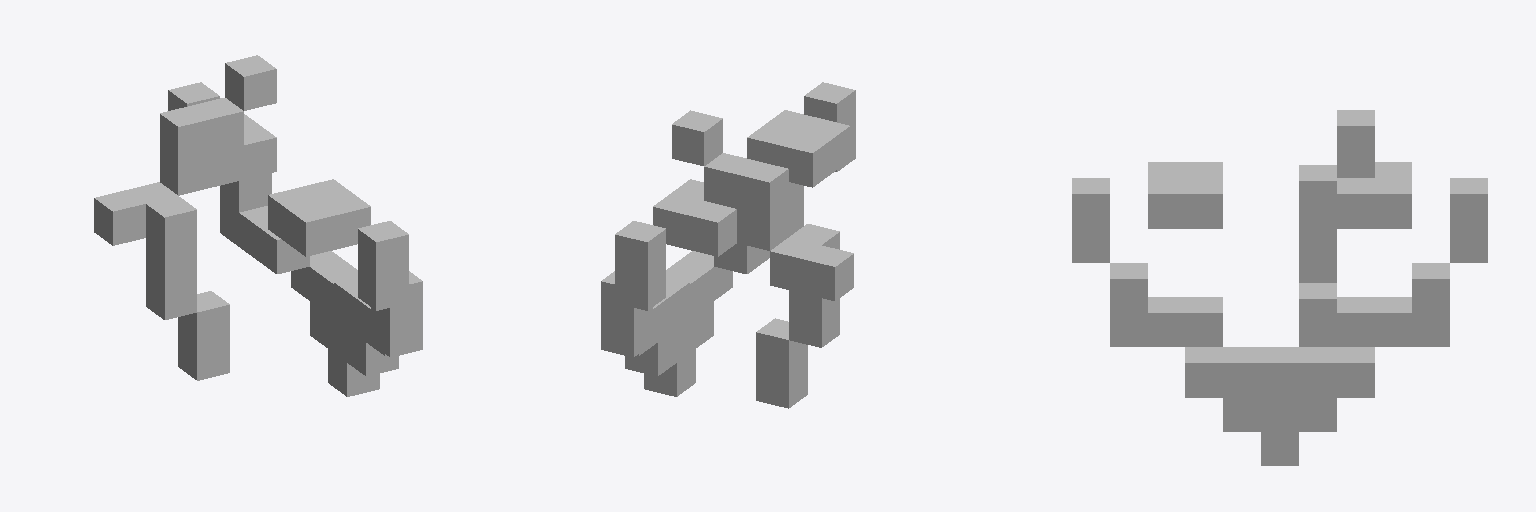
The model's file is tripasdogolem-6-New Piskel.obj.
3 views of the same model, side by side, from view 1: azimuth 30°, elevation 25°; view 2: azimuth 150°, elevation 25°; view 3: azimuth 270°, elevation 25° (orthographic).
Visible parts, largest first — view 1: New Piskel; view 2: New Piskel; view 3: New Piskel.
Boxes of the visible parts, <box> form: New Piskel: <box>94,55,422,396</box>; New Piskel: <box>601,82,855,408</box>; New Piskel: <box>1072,110,1487,465</box>.
Bounding box in the file's own units: 0.7 × 0.9 × 1.1.